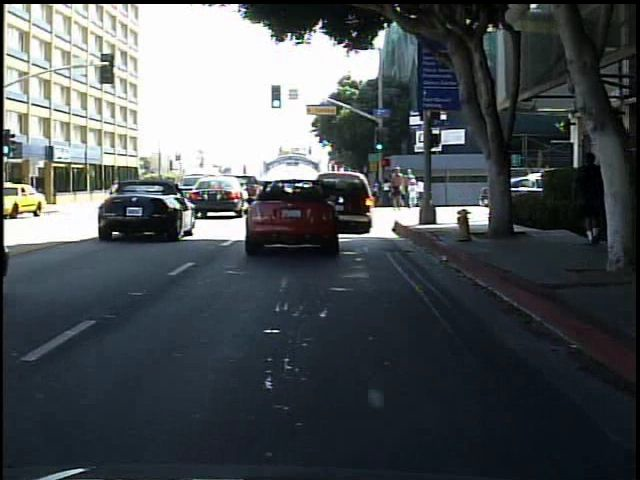person: (568, 152, 606, 247), (388, 165, 408, 213), (406, 176, 423, 210), (104, 178, 123, 205)
